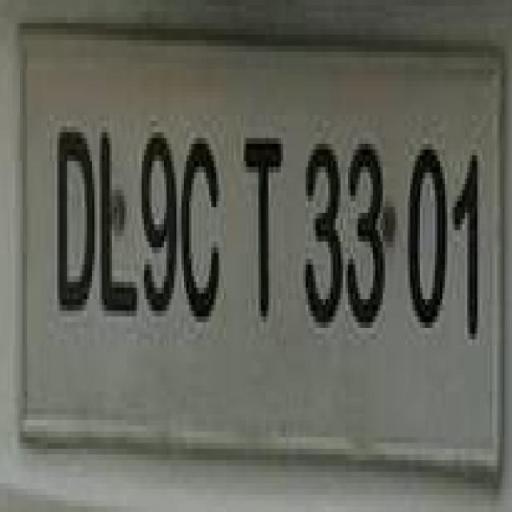number plate: (14, 28, 512, 460)
